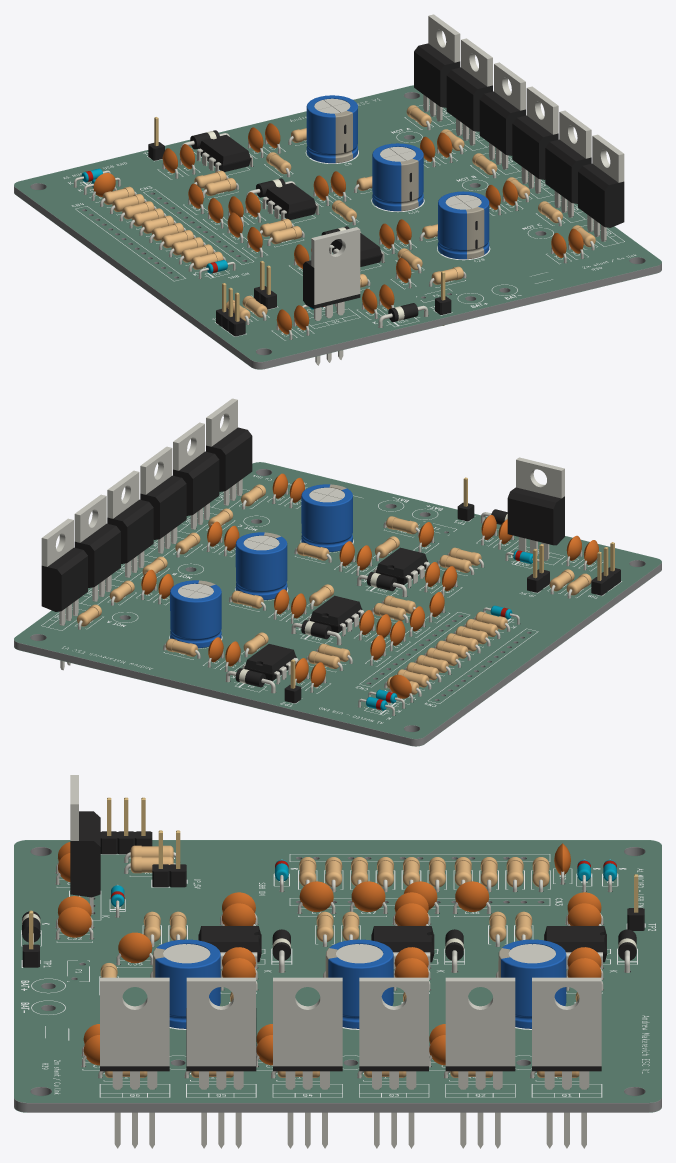
File: esc-pcb.glb
The picture shows the model from 3 angles, top to bottom: view 1: azimuth 30°, elevation 25°; view 2: azimuth 150°, elevation 25°; view 3: azimuth 270°, elevation 25°; orthographic projection. The views are drawn at different scales.
Parts seen in each view (by area): view 1: =>[0:1:1:14], =>[0:1:1:16], U4, =>[0:1:1:12], Q6, C28, C18, C8, Q4, Q3, Q1, Q2 (+7 smaller); view 2: =>[0:1:1:14], =>[0:1:1:16], U4, =>[0:1:1:12], Q1, Q4, Q5, Q6, Q3, Q2, C18, C8 (+9 smaller); view 3: =>[0:1:1:14], =>[0:1:1:16], Q2, Q5, Q4, Q6, Q1, Q3, =>[0:1:1:12], C18, C28, C8 (+23 smaller).
Boxes of the visible parts, bbox=[...] form: =>[0:1:1:14]: bbox=[14, 85, 661, 361]; =>[0:1:1:16]: bbox=[14, 86, 661, 369]; U4: bbox=[303, 227, 360, 365]; =>[0:1:1:12]: bbox=[63, 98, 636, 340]; Q6: bbox=[578, 134, 624, 241]; C28: bbox=[437, 191, 489, 259]; C18: bbox=[372, 143, 423, 211]; C8: bbox=[306, 95, 357, 163]; Q4: bbox=[512, 86, 558, 193]; Q3: bbox=[479, 62, 525, 169]; Q1: bbox=[414, 14, 460, 121]; Q2: bbox=[446, 38, 492, 145]; =>[0:1:1:14]: bbox=[14, 462, 661, 738]; =>[0:1:1:16]: bbox=[14, 463, 661, 746]; U4: bbox=[507, 457, 564, 560]; =>[0:1:1:12]: bbox=[41, 475, 621, 723]; Q1: bbox=[41, 518, 87, 670]; Q4: bbox=[140, 446, 186, 553]; Q5: bbox=[173, 422, 219, 529]; Q6: bbox=[206, 398, 252, 505]; Q3: bbox=[107, 470, 153, 577]; Q2: bbox=[74, 494, 120, 601]; C18: bbox=[235, 532, 287, 600]; C8: bbox=[170, 580, 221, 648]; =>[0:1:1:14]: bbox=[14, 840, 661, 1102]; =>[0:1:1:16]: bbox=[14, 841, 661, 1112]; Q2: bbox=[445, 977, 515, 1148]; Q5: bbox=[186, 977, 256, 1148]; Q4: bbox=[273, 977, 342, 1148]; Q6: bbox=[100, 977, 169, 1148]; Q1: bbox=[532, 977, 601, 1148]; Q3: bbox=[359, 977, 428, 1148]; =>[0:1:1:12]: bbox=[21, 854, 655, 1097]; C18: bbox=[325, 939, 393, 1028]; C28: bbox=[152, 939, 220, 1028]; C8: bbox=[498, 939, 566, 1028].
Size of the model in its own units: 0.0914 by 0.0285 by 0.0952.
